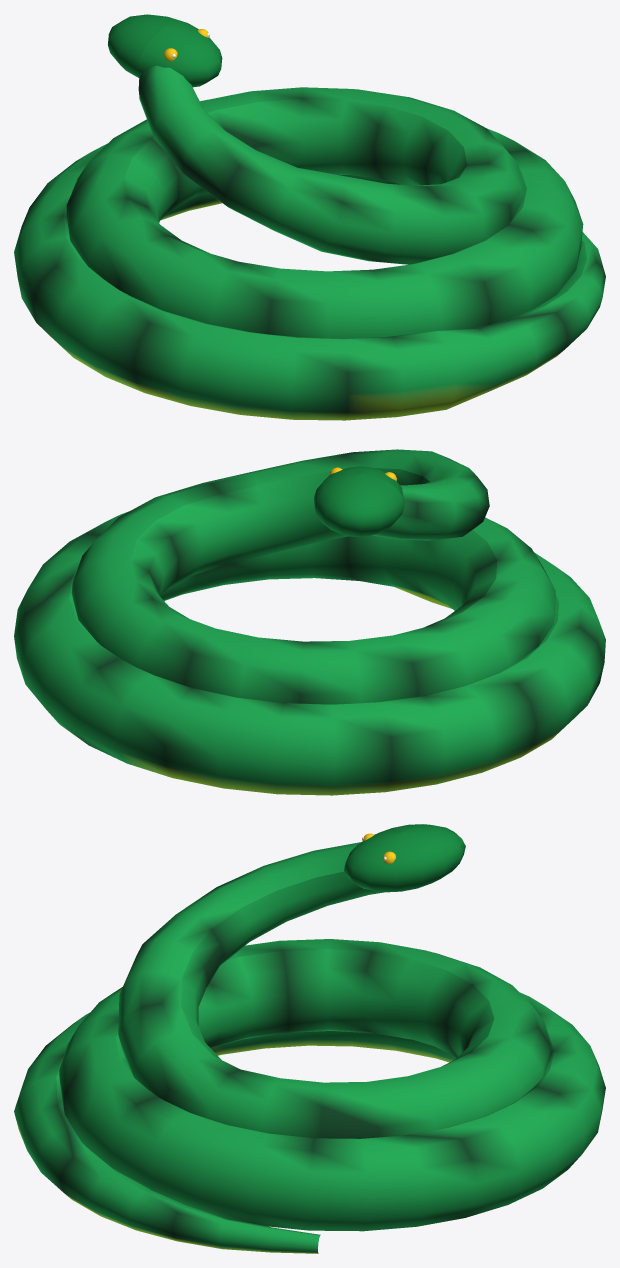
Rendered from anaconda.glb.
The picture shows the model from 3 angles, top to bottom: view 1: azimuth 30°, elevation 25°; view 2: azimuth 150°, elevation 25°; view 3: azimuth 270°, elevation 25°; orthographic projection. The views are drawn at different scales.
Parts seen in each view (by area): view 1: Body, Head; view 2: Body, Head; view 3: Body, Head.
Part boxes in pixels (<box>): Body: <box>14,65,605,420</box>; Head: <box>108,14,222,87</box>; Body: <box>14,449,605,795</box>; Head: <box>314,466,404,537</box>; Body: <box>14,842,605,1253</box>; Head: <box>344,824,465,892</box>.
Bounding box in the file's own units: 1.83 × 0.9421 × 1.85.
